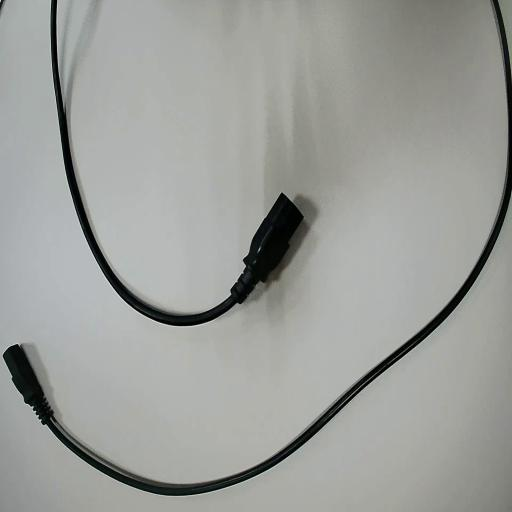wire: (4, 0, 511, 494), (52, 0, 303, 324)
